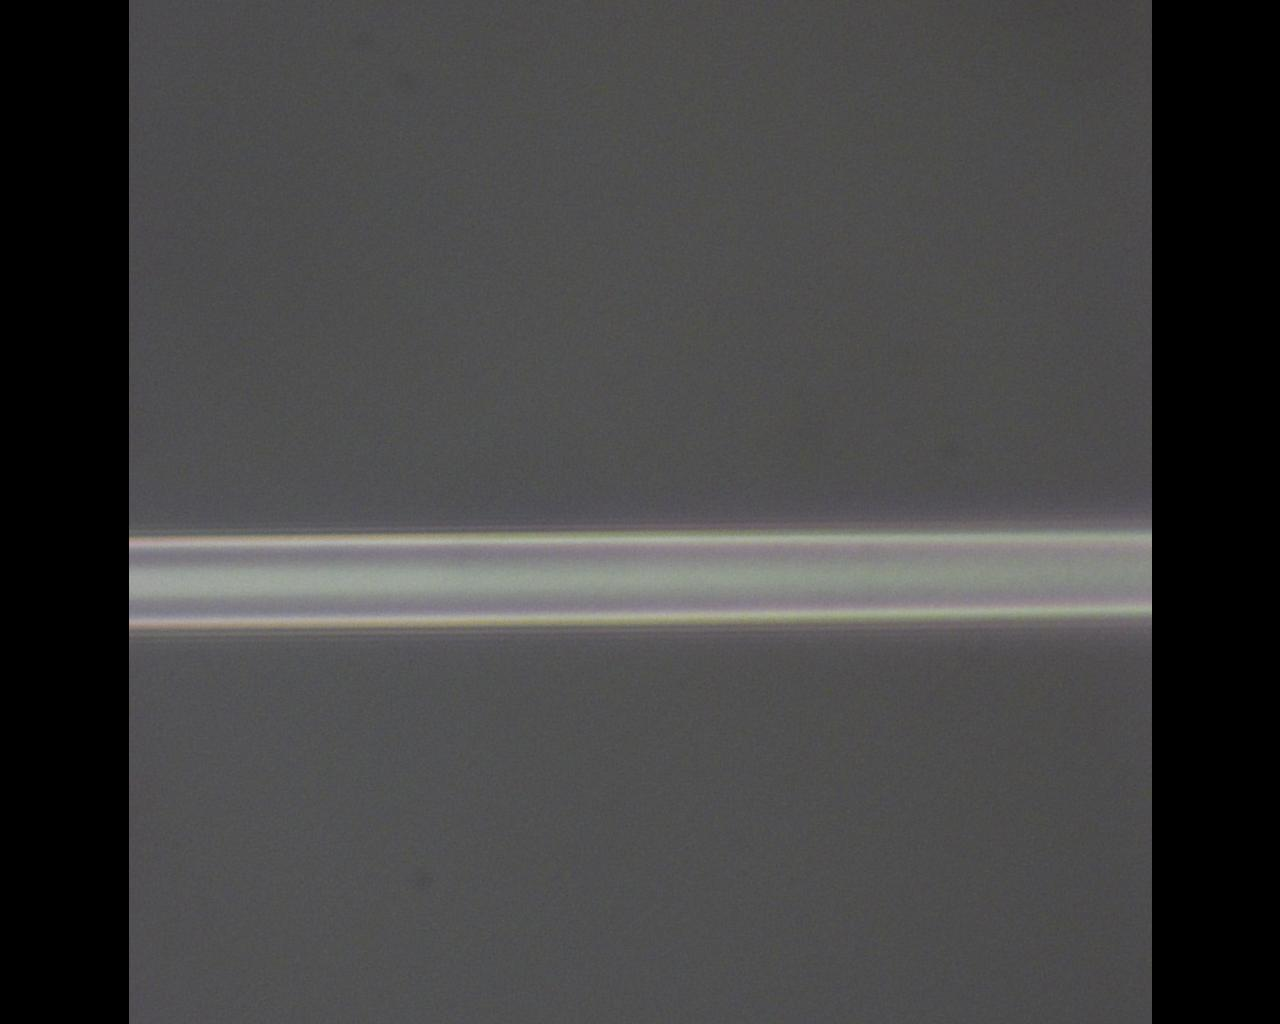fiber: (127, 530, 1151, 633)
